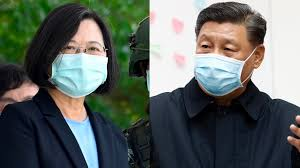with-mask: (33, 5, 115, 106), (191, 9, 263, 100)
